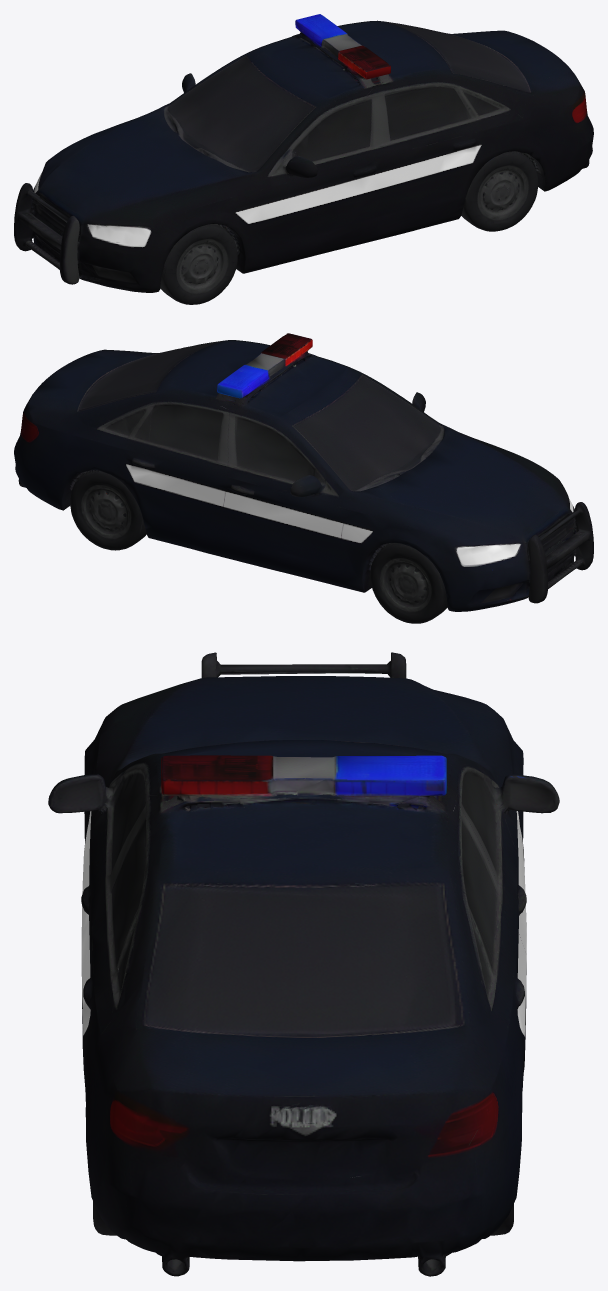
The model's file is vehicle-cruiser.glb.
3 renders of one model, top to bottom at view 1: azimuth 30°, elevation 25°; view 2: azimuth 150°, elevation 25°; view 3: azimuth 270°, elevation 25°, orthographic. The views are drawn at different scales.
Parts seen in each view (by area): view 1: Mesh_0; view 2: Mesh_0; view 3: Mesh_0.
Boxes of the visible parts, bbox=[...] form: Mesh_0: bbox=[14, 14, 593, 304]; Mesh_0: bbox=[14, 333, 593, 623]; Mesh_0: bbox=[48, 652, 559, 1276].
Size of the model in its own units: 1.9 by 0.6108 by 0.7949.
Materials: 1 (1 with a texture image).
